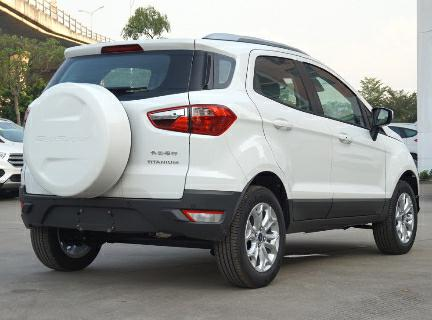福特-锐界: (19, 32, 423, 287)
